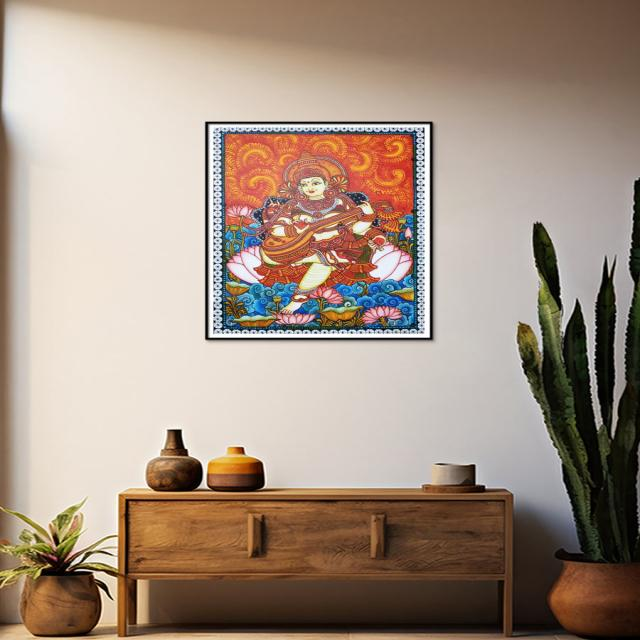painting: (205, 121, 433, 340)
